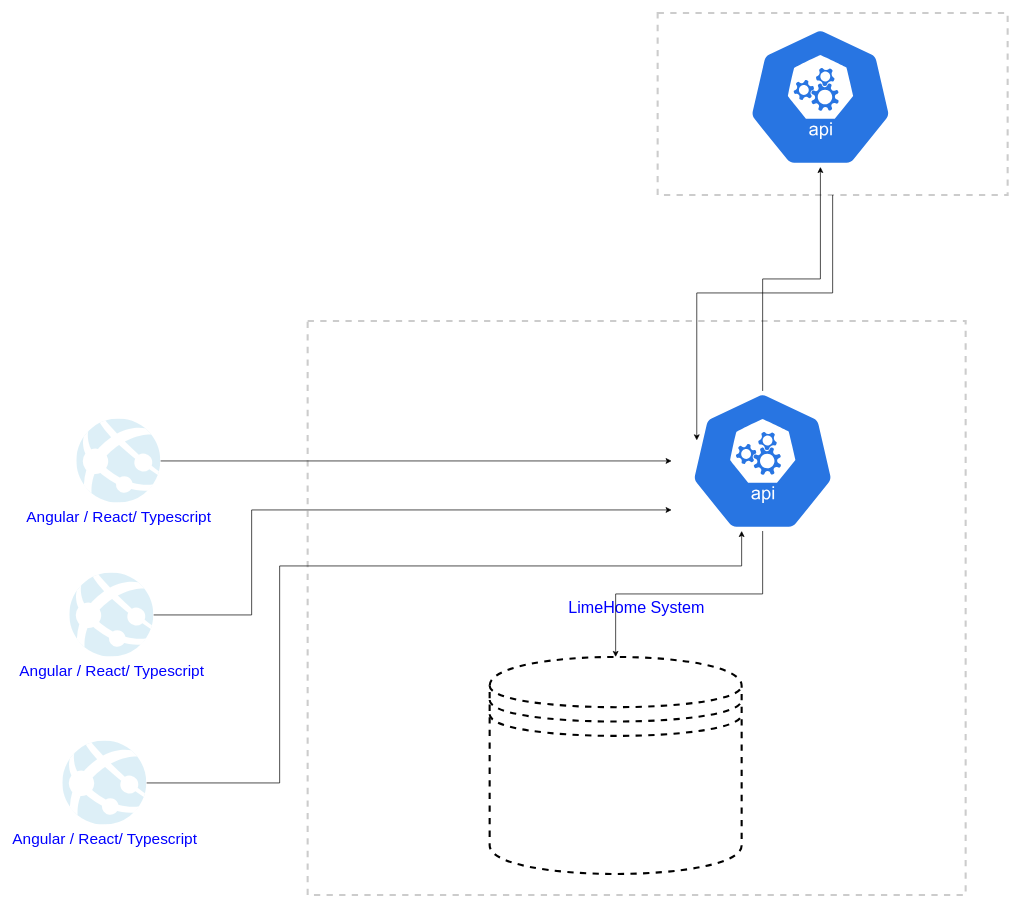
Some shapes in this 1021 by 908 pixel diagram are drawn without their labels. Each missing label, with the box of its shape:
HERE API System (External): (656, 12, 1008, 196)
Postgres + Postgis: (488, 656, 742, 875)
